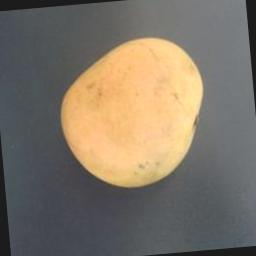Mango Ripe: (46, 24, 211, 192)
